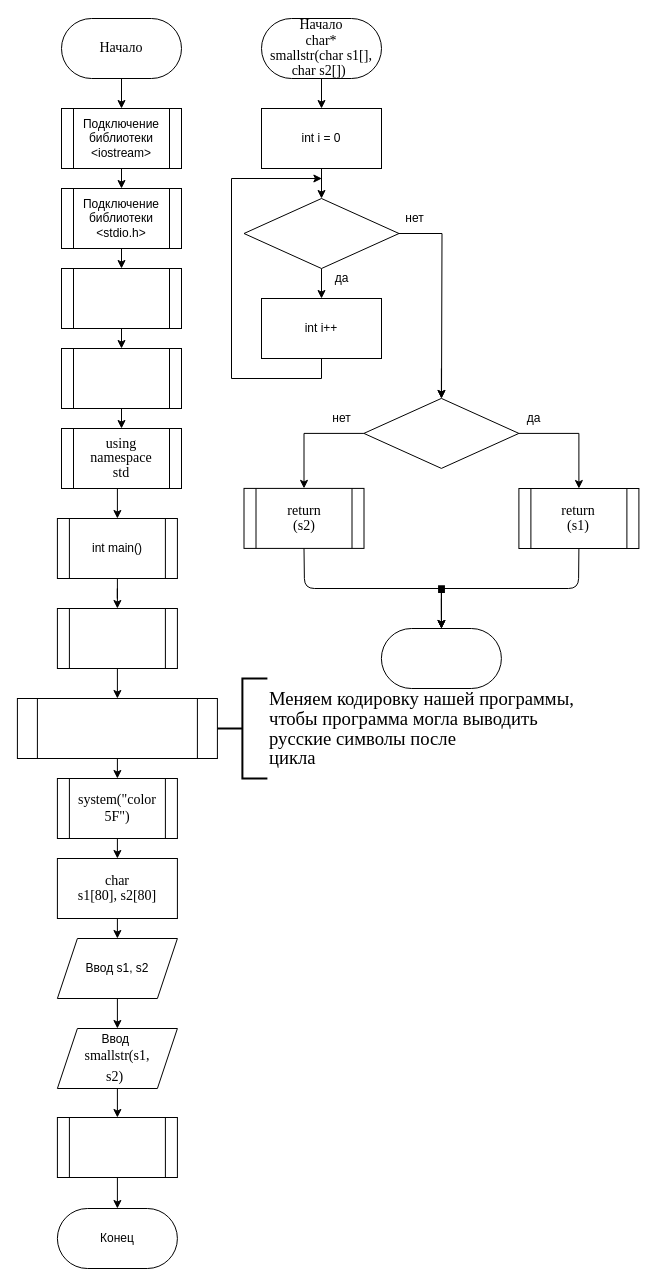
This 657x1286 diagram has some shape labels left out. The centre of each missing label's shape, as x and y in pixels:
return 0: (116,1147)
s1[i] != '\0' && s2[i] != '\0': (321,233)
s1[i] == '\0': (441,432)
SetConsoleCP(1251);, SetConsoleOutputCP(1251): (116,728)
setllocale (LC_CTYPE, "Rus"): (116,638)
Конец returnNothing(): (440,658)
Подключение библиотеки <conio.h>: (121,298)
Подключение библиотеки <windows.h>: (121,378)
